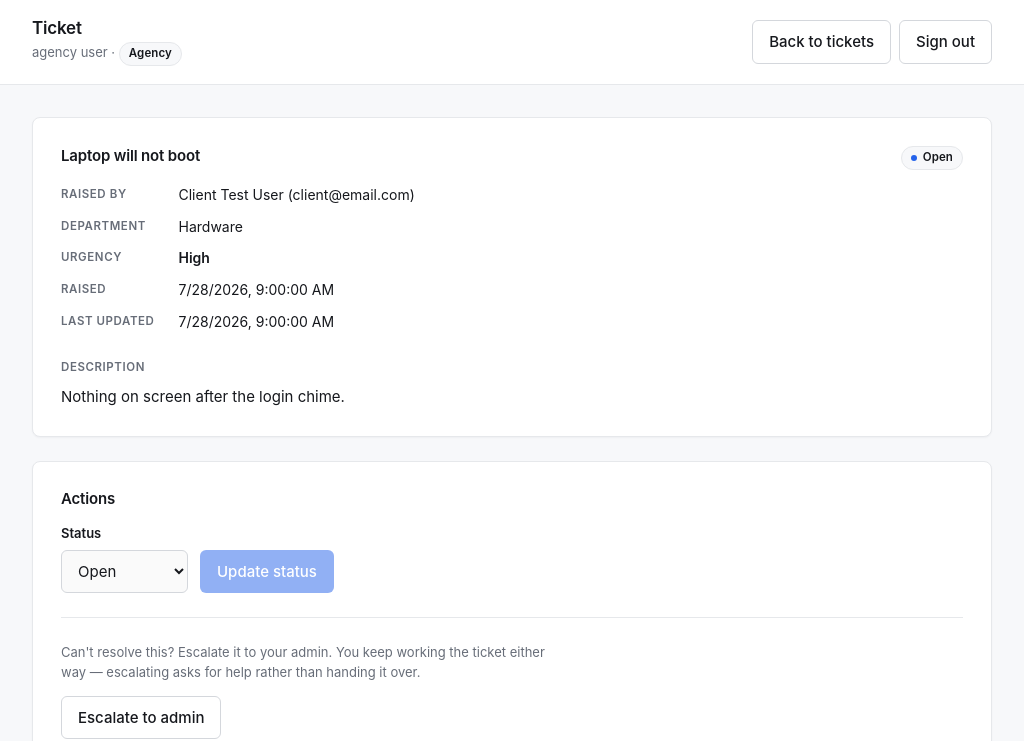
it: ticket detail › reports a failed status change without losing the page
Check: the heading "Actions" is shown, box [61,489,115,508]
Select "Resolved" in the dropdown labelled "Status" at (124, 571), box [61,550,188,593]
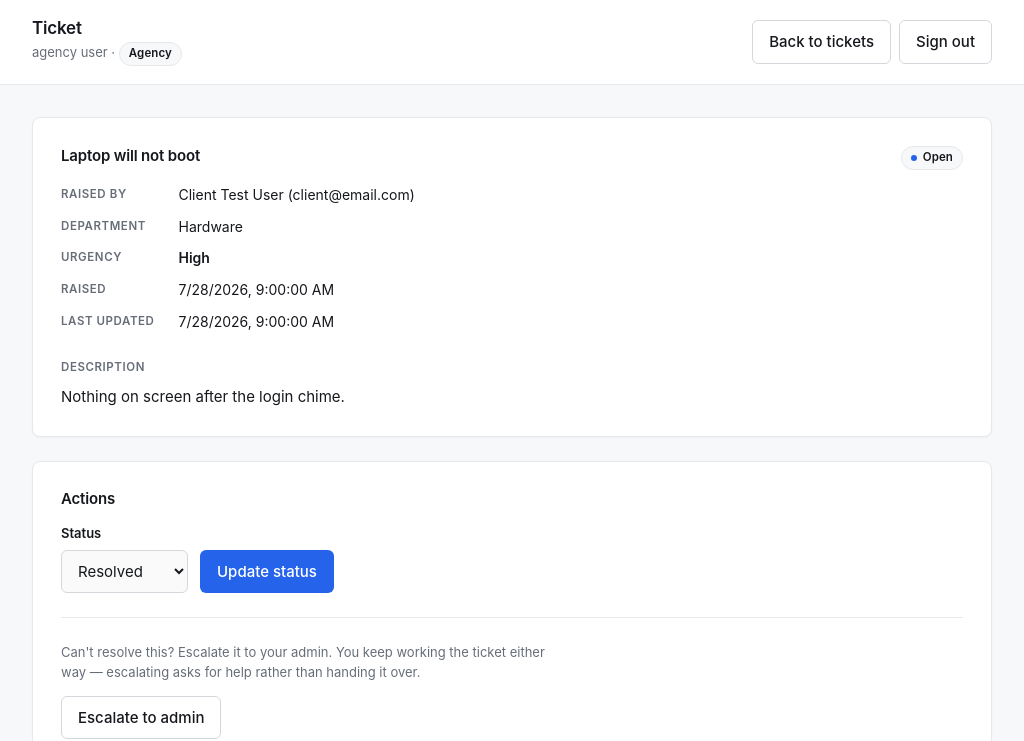
Click the button "Update status" at (267, 571), box [200,550,334,593]
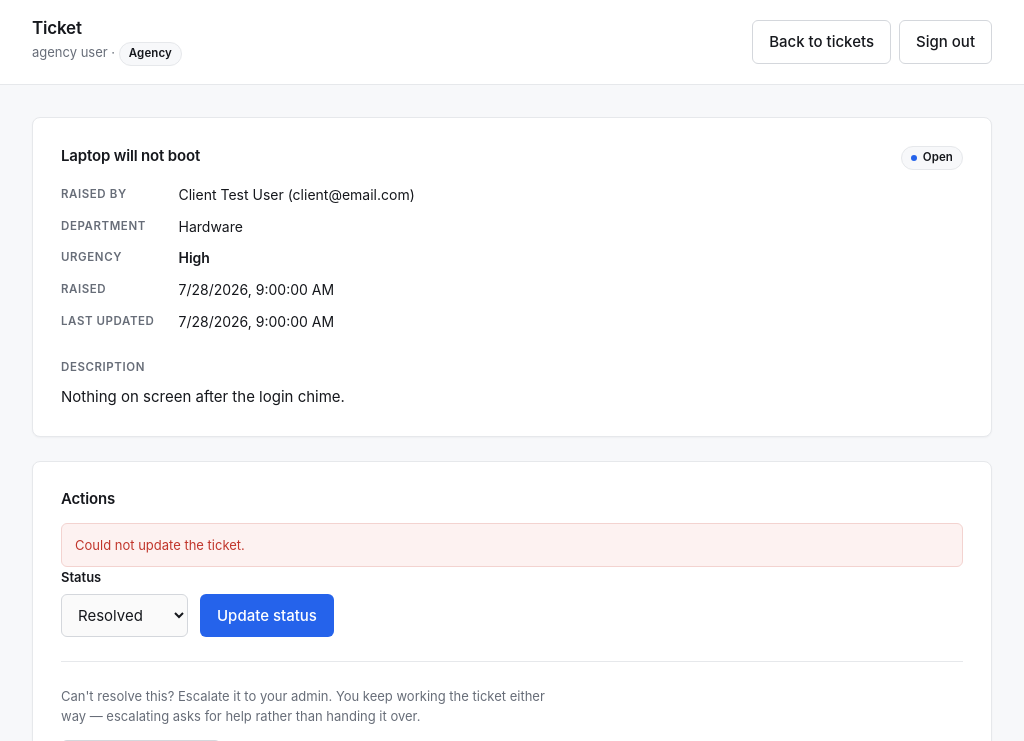
Check: the heading "Laptop will not boot" is shown, box [61,147,200,166]
Check: the message shows "Could not update the ticket", box [75,537,245,553]
